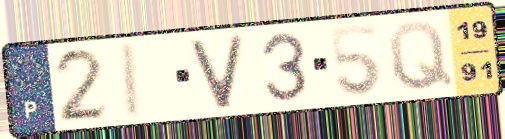2: (54, 47, 110, 123)
3: (258, 29, 310, 105)
5: (327, 20, 386, 100)
I: (121, 39, 146, 122)
Q: (385, 18, 457, 93)
V: (186, 31, 248, 112)
